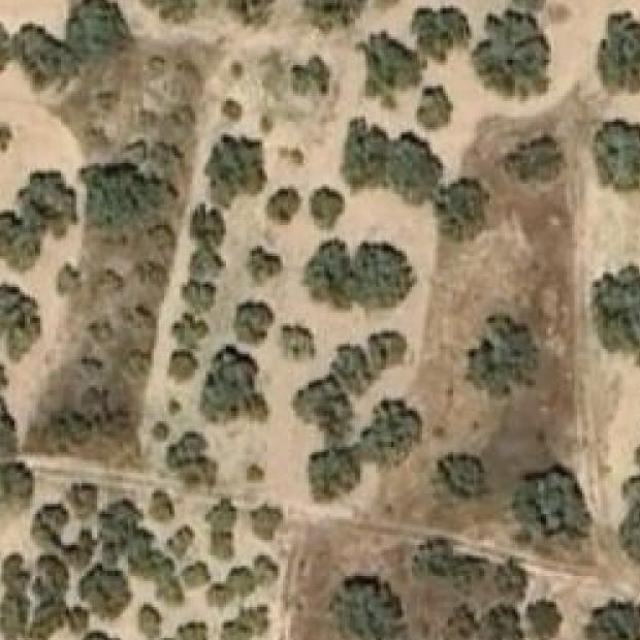Tree: (471, 8, 551, 101), (463, 311, 539, 396), (512, 465, 593, 541), (589, 266, 640, 368), (358, 29, 423, 109), (200, 347, 268, 422), (348, 235, 415, 311), (12, 24, 82, 94), (14, 171, 76, 244), (78, 158, 138, 230), (202, 134, 262, 204), (363, 398, 418, 471), (338, 120, 394, 187), (290, 374, 350, 436), (592, 119, 640, 192), (0, 278, 42, 361), (597, 10, 640, 90), (332, 581, 390, 640), (410, 6, 472, 61), (71, 0, 131, 55), (438, 180, 492, 240), (381, 140, 432, 202), (494, 140, 564, 185), (166, 432, 216, 492), (0, 209, 45, 274), (430, 455, 492, 500), (303, 240, 348, 300), (307, 449, 358, 499), (80, 571, 131, 617), (582, 602, 640, 640), (25, 499, 66, 550), (304, 0, 371, 31), (206, 498, 237, 558), (308, 184, 344, 233), (234, 302, 276, 344), (278, 321, 317, 365), (479, 598, 518, 640), (520, 602, 562, 640), (417, 86, 453, 130), (264, 186, 304, 225), (368, 330, 407, 370), (290, 55, 329, 94), (187, 204, 226, 243), (0, 462, 30, 512), (244, 246, 282, 285), (229, 0, 276, 27), (190, 246, 224, 282), (69, 480, 100, 519), (250, 507, 284, 541), (172, 313, 208, 344), (183, 282, 219, 313), (166, 524, 195, 560), (138, 259, 168, 293), (97, 266, 126, 300), (169, 349, 198, 380), (123, 347, 152, 378), (148, 492, 174, 526), (52, 263, 82, 292), (92, 318, 121, 347), (180, 560, 208, 590), (136, 607, 162, 636), (252, 556, 275, 586), (206, 584, 232, 610), (226, 566, 252, 592), (180, 619, 208, 640), (221, 93, 241, 122), (245, 466, 265, 486), (71, 633, 121, 640), (149, 421, 169, 437), (634, 439, 640, 478)
